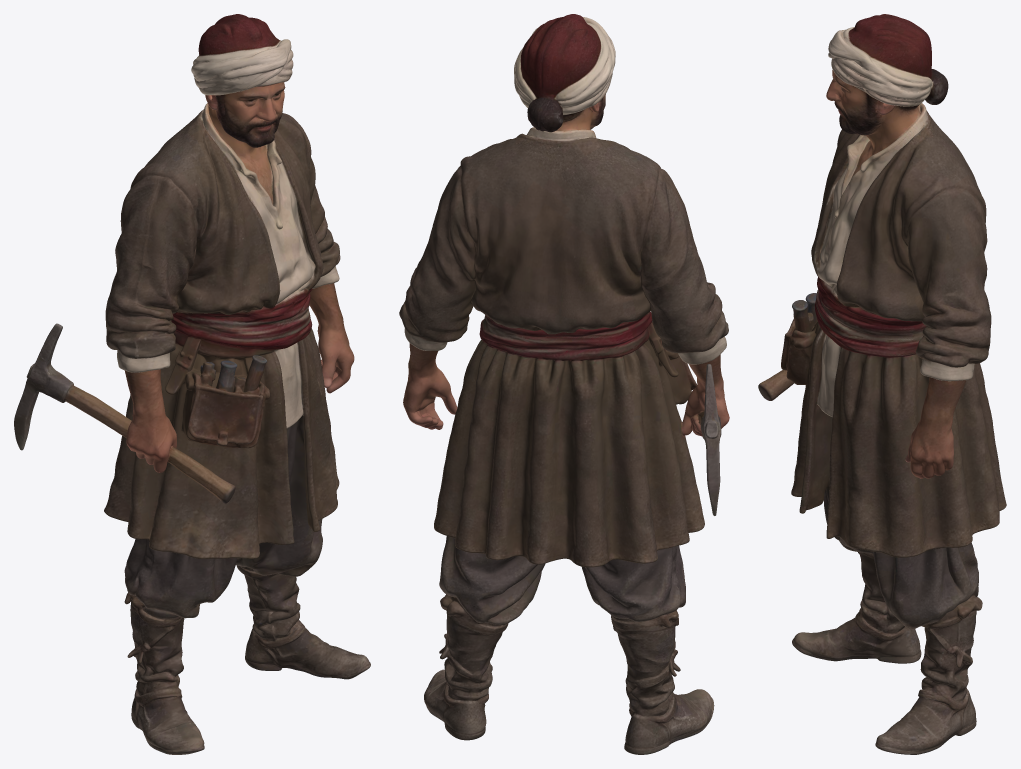
File: lagimci-ocagi-1550-1600-v1.glb
3 renders of one model, left to right at view 1: azimuth 30°, elevation 25°; view 2: azimuth 150°, elevation 25°; view 3: azimuth 270°, elevation 25°, orthographic. The views are drawn at different scales.
Visible parts, largest first — view 1: tripo_node_4e800f87-0b0a-4a39-a818-6a29ccdc070e; view 2: tripo_node_4e800f87-0b0a-4a39-a818-6a29ccdc070e; view 3: tripo_node_4e800f87-0b0a-4a39-a818-6a29ccdc070e.
Boxes of the visible parts, x1,y1,x2,y2 form: tripo_node_4e800f87-0b0a-4a39-a818-6a29ccdc070e: [14, 14, 370, 754]; tripo_node_4e800f87-0b0a-4a39-a818-6a29ccdc070e: [399, 14, 729, 754]; tripo_node_4e800f87-0b0a-4a39-a818-6a29ccdc070e: [758, 14, 1006, 754].
Size of the model in its own units: 0.486 by 1 by 0.3299.
1 material, 1 textured.
